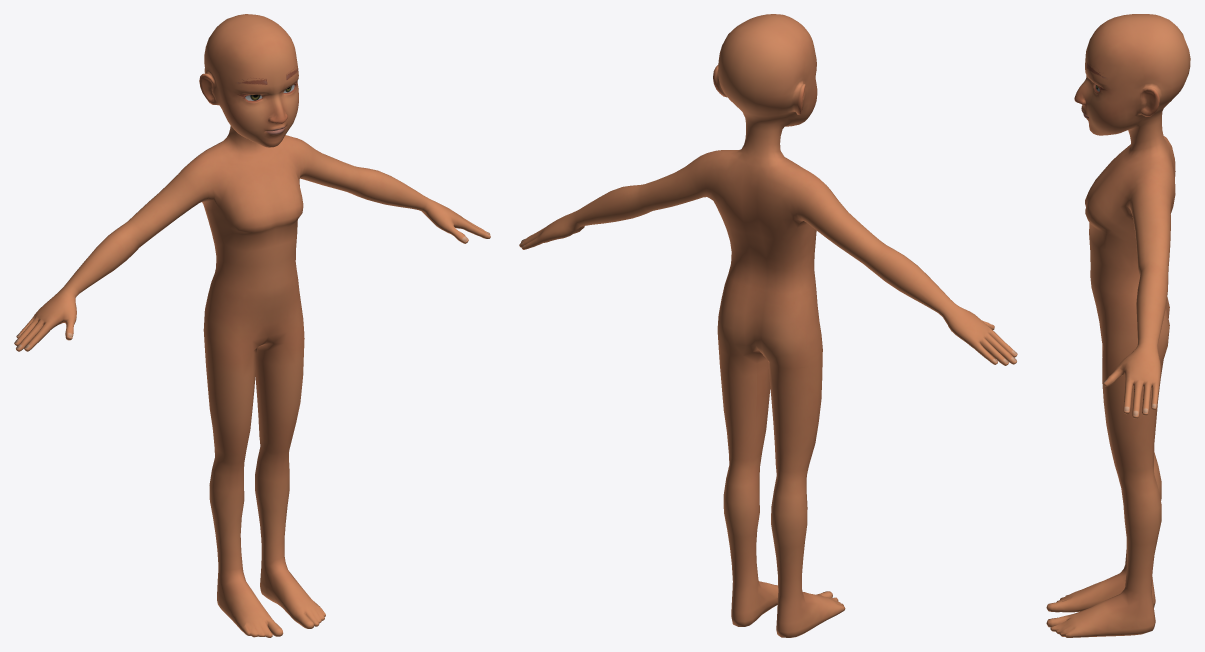
Rendered from frame_0040.glb.
3 renders of one model, left to right at view 1: azimuth 30°, elevation 25°; view 2: azimuth 150°, elevation 25°; view 3: azimuth 270°, elevation 25°, orthographic. The views are drawn at different scales.
Parts seen in each view (by area): view 1: frame_0040_head_geo; view 2: frame_0040_head_geo; view 3: frame_0040_head_geo.
Boxes of the visible parts, x1=… form: frame_0040_head_geo: x1=14, y1=14, x2=490, y2=637; frame_0040_head_geo: x1=519, y1=14, x2=1017, y2=637; frame_0040_head_geo: x1=1046, y1=14, x2=1190, y2=637.
Bounding box in the file's own units: 1.28 × 1.5 × 0.3253.
Materials: 3 (3 with a texture image).
